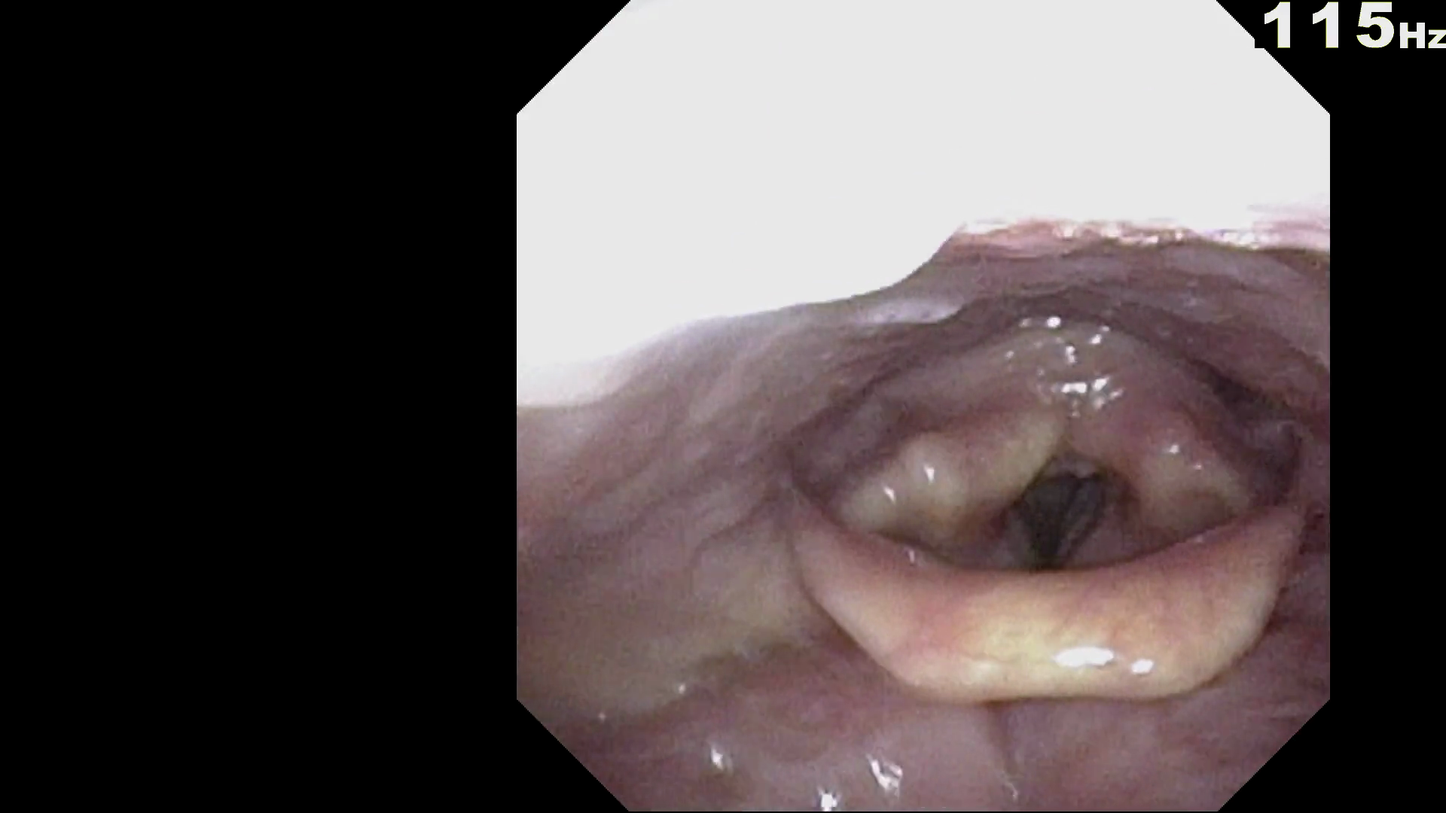epiglottis: (778, 465, 1303, 705)
trachea: (982, 418, 1128, 572)
